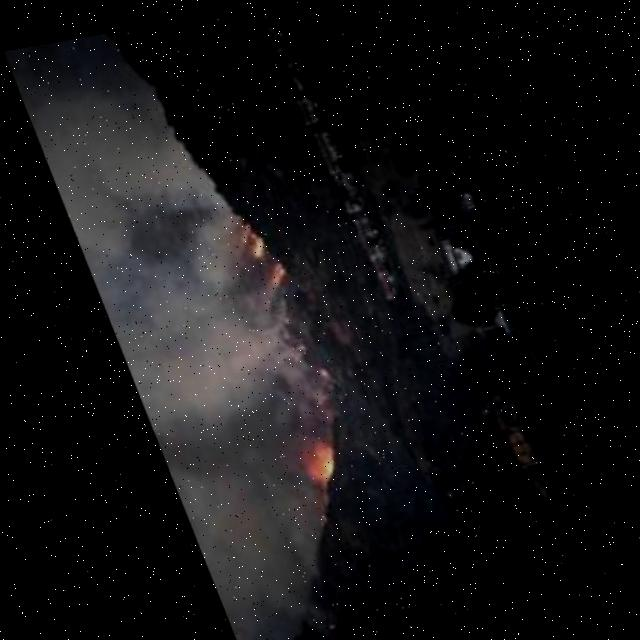fire: (238, 209, 294, 287), (292, 428, 348, 492)
